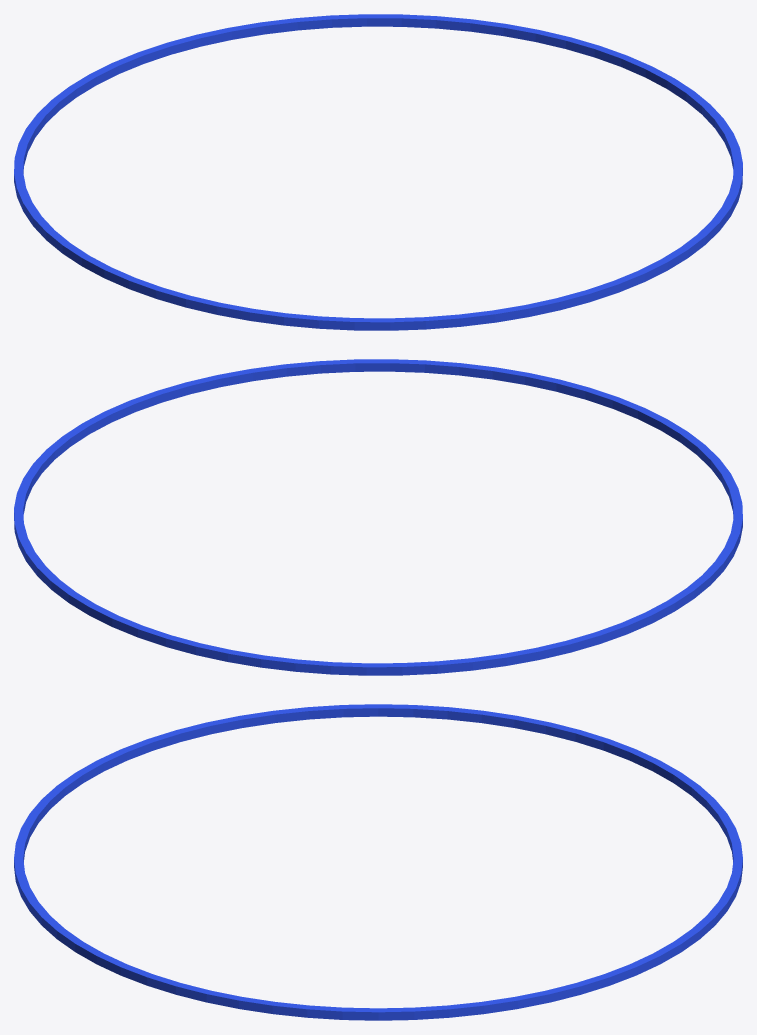
The picture shows the model from 3 angles, top to bottom: view 1: azimuth 30°, elevation 25°; view 2: azimuth 150°, elevation 25°; view 3: azimuth 270°, elevation 25°; orthographic projection.
Visible parts, largest first — view 1: Circle; view 2: Circle; view 3: Circle.
Part boxes in pixels (left/top/right/bottom): Circle: left=14, top=14, right=742, bottom=330; Circle: left=14, top=359, right=742, bottom=675; Circle: left=14, top=704, right=742, bottom=1020.
Size of the model in its own units: 101 by 1.3 by 101.
